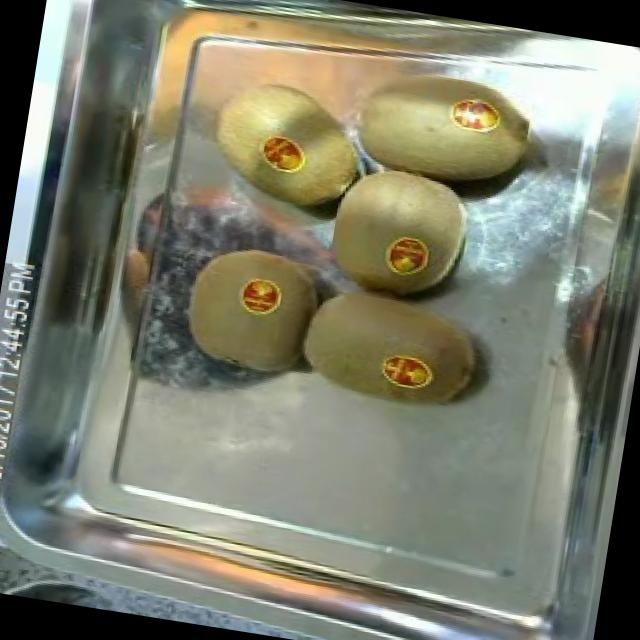Fruit: (169, 0, 406, 229), (289, 268, 496, 416), (308, 154, 486, 310)
